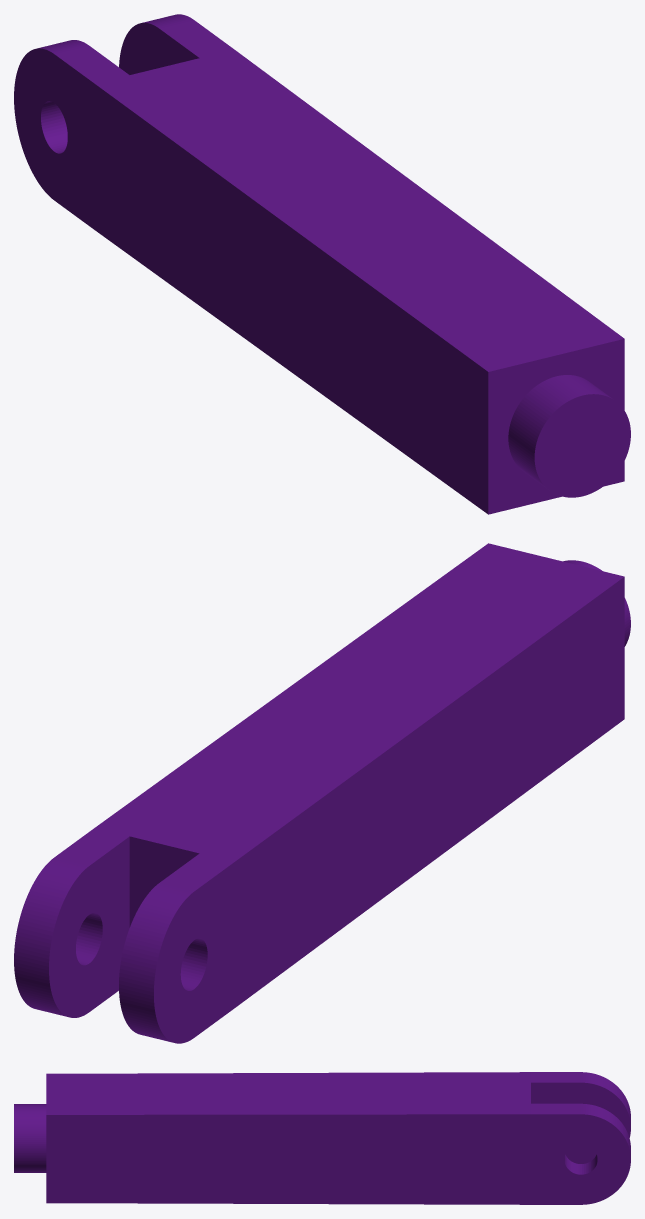
The picture shows the model from 3 angles, top to bottom: view 1: azimuth 30°, elevation 25°; view 2: azimuth 150°, elevation 25°; view 3: azimuth 270°, elevation 25°; orthographic projection. The views are drawn at different scales.
Parts seen in each view (by area): view 1: node; view 2: node; view 3: node.
Boxes of the visible parts, bbox=[...] form: node: bbox=[14, 14, 630, 514]; node: bbox=[14, 543, 630, 1043]; node: bbox=[14, 1072, 630, 1204].
Bounding box in the file's own units: 0.0515 × 0.0515 × 0.3183.
